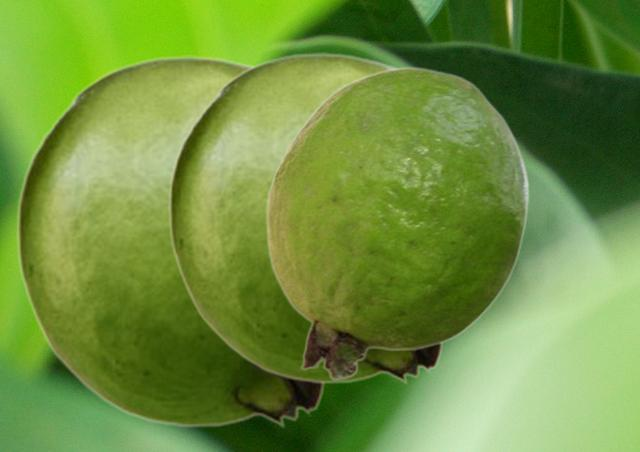guava: (15, 55, 328, 428), (167, 52, 446, 384), (265, 66, 528, 380)
